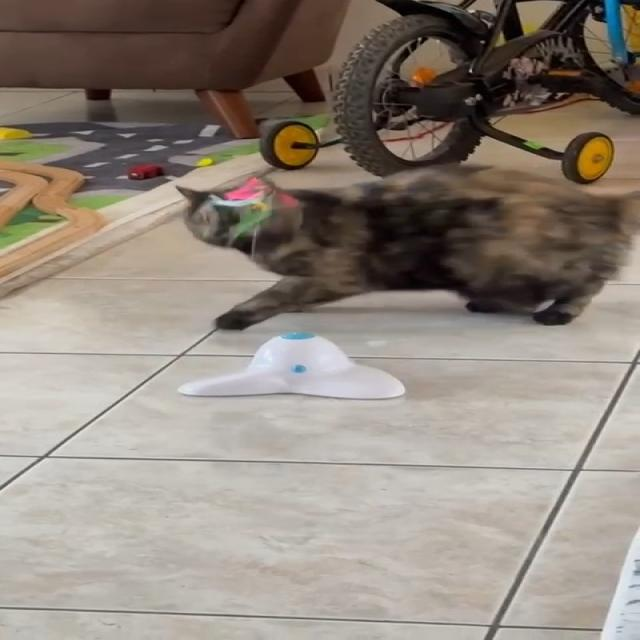authorized: (174, 163, 638, 331)
